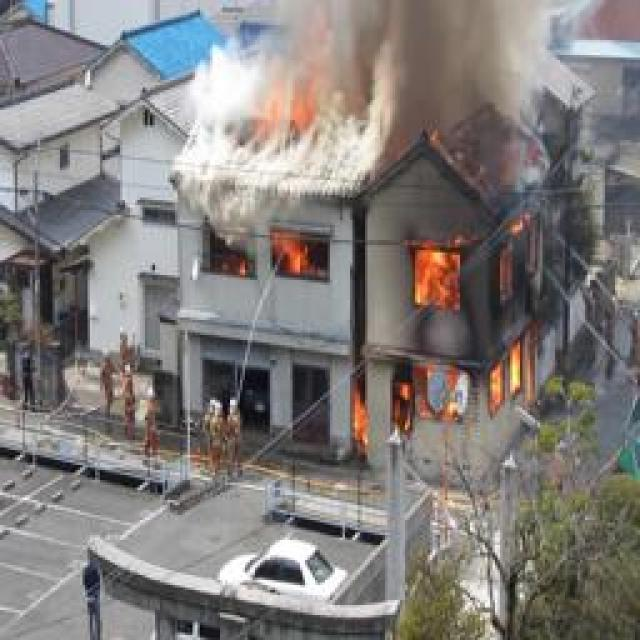Fire: (343, 197, 558, 455), (238, 39, 336, 150), (202, 220, 328, 286)
